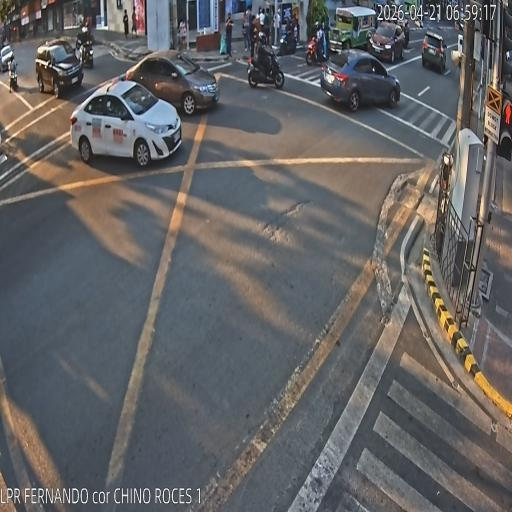Car: (70, 78, 184, 169), (126, 51, 219, 118), (321, 47, 400, 112), (36, 40, 84, 99), (366, 22, 405, 64), (422, 31, 447, 73), (0, 44, 14, 73)
Motor: (247, 37, 283, 89), (76, 21, 94, 68), (306, 29, 328, 65), (8, 58, 18, 93)
